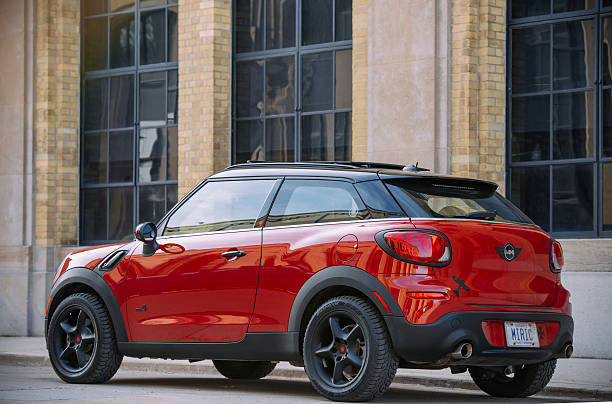licence: (498, 315, 543, 348)
